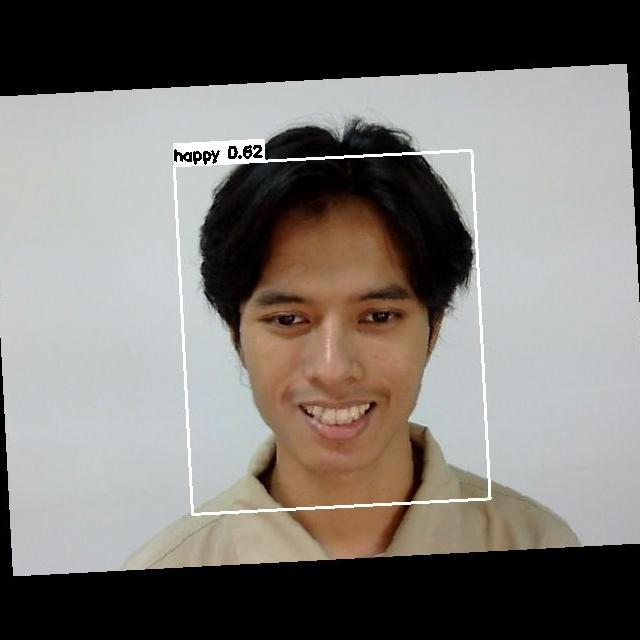Happy: (235, 258, 435, 441)
